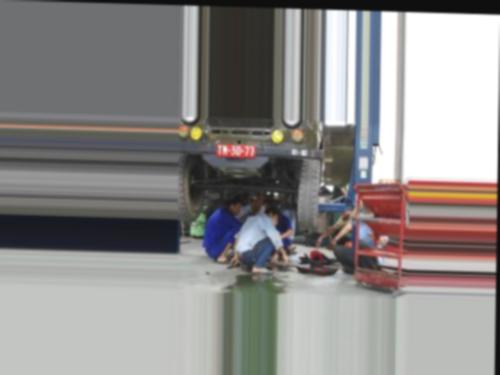License_Plate: (216, 143, 257, 159)
